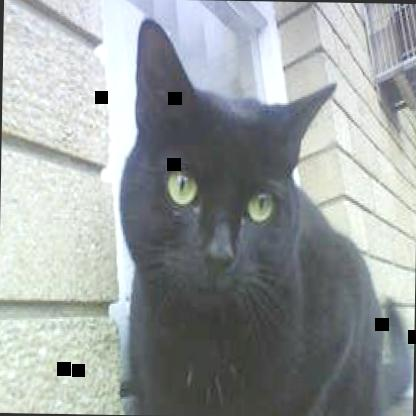cat: (115, 14, 415, 415)
